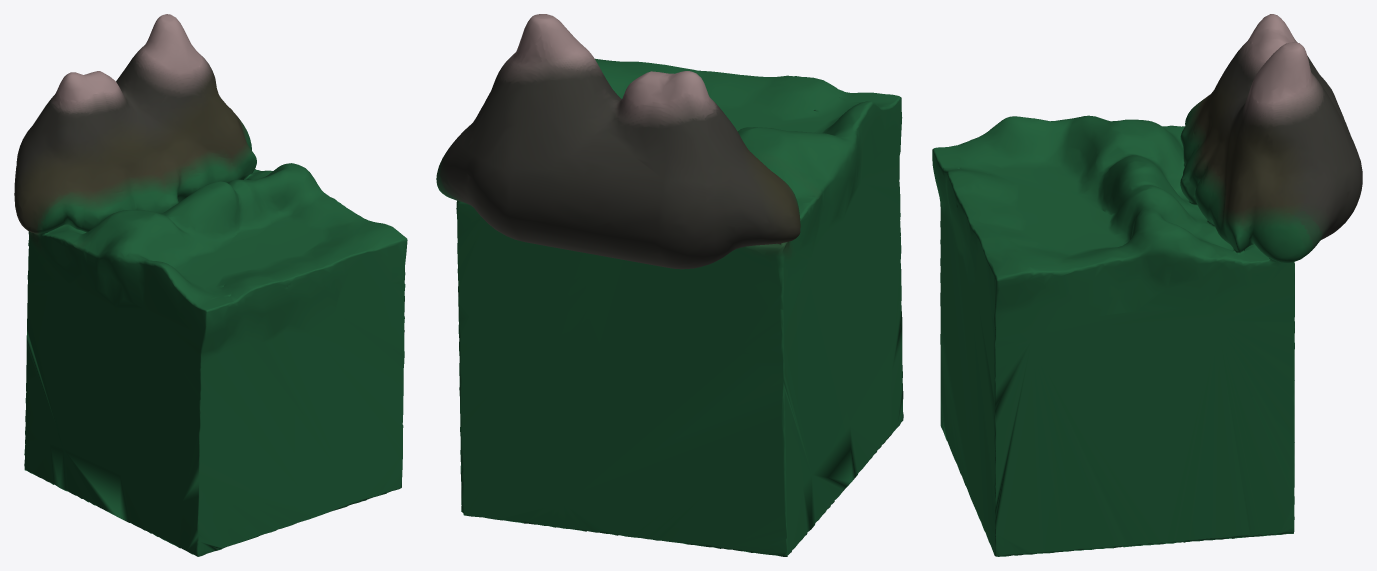
Rendered from dltds_stage.gltf.
The picture shows the model from 3 angles, left to right: view 1: azimuth 30°, elevation 25°; view 2: azimuth 150°, elevation 25°; view 3: azimuth 270°, elevation 25°; orthographic projection. The views are drawn at different scales.
Visible parts, largest first — view 1: Layer_1; view 2: Layer_1; view 3: Layer_1.
Part boxes in pixels (x1,y1,x2,y2): Layer_1: (14, 14, 407, 556); Layer_1: (436, 14, 903, 556); Layer_1: (932, 14, 1362, 556).
Size of the model in its own units: 26.31 by 35.81 by 30.61.
